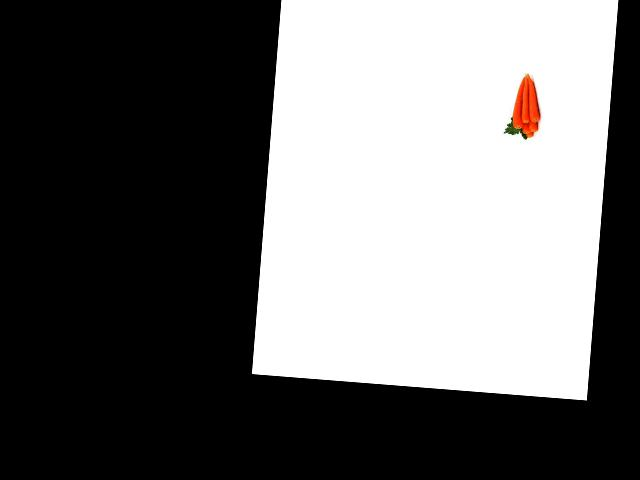carrot: (525, 130, 534, 140)
